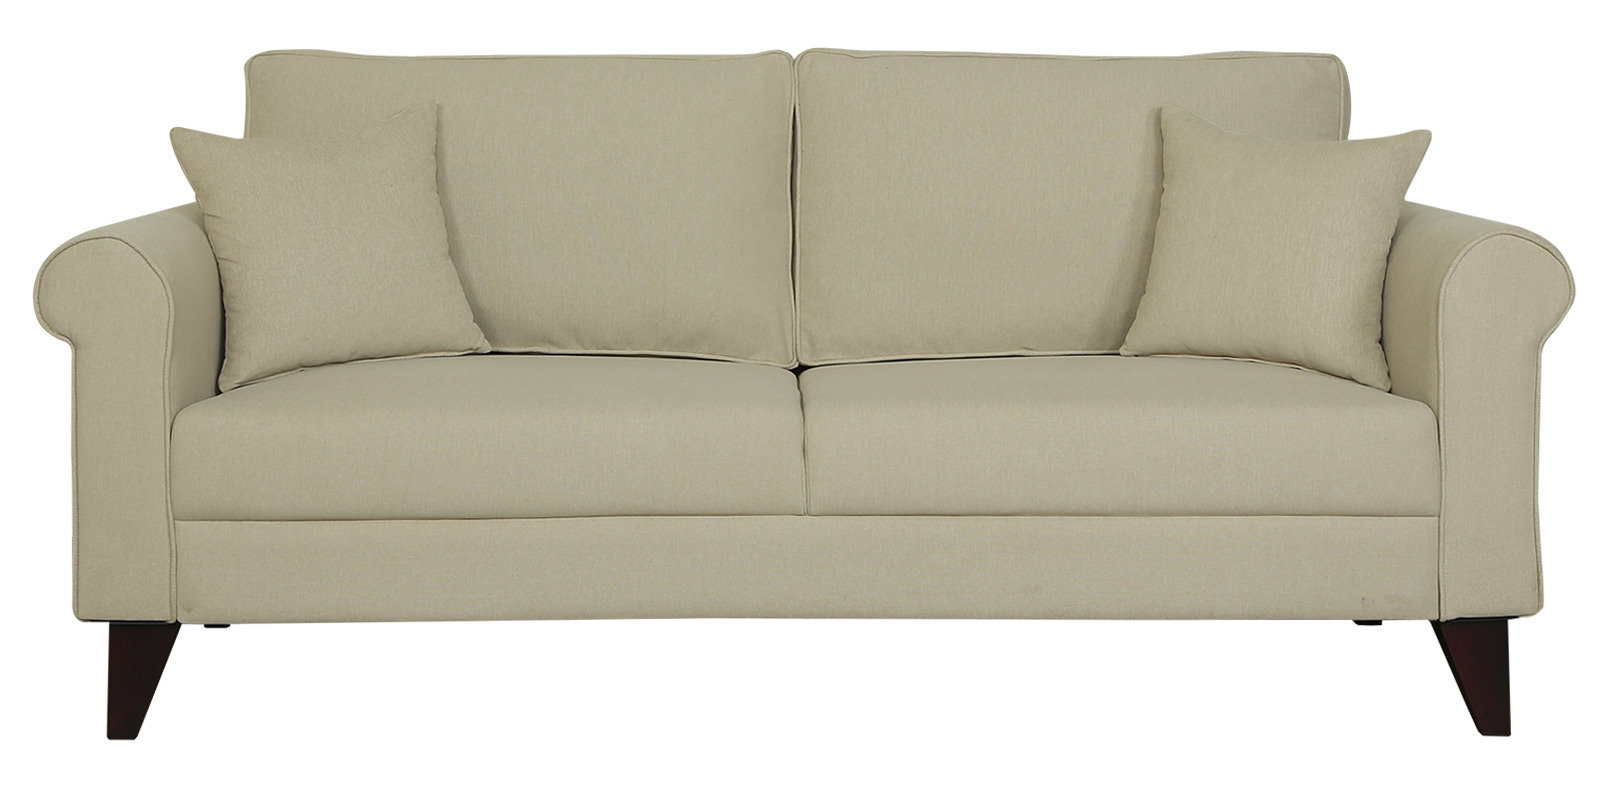Fuego Three Seater Sofa in Beige Colour by CasaCraft: (28, 13, 1600, 773)
